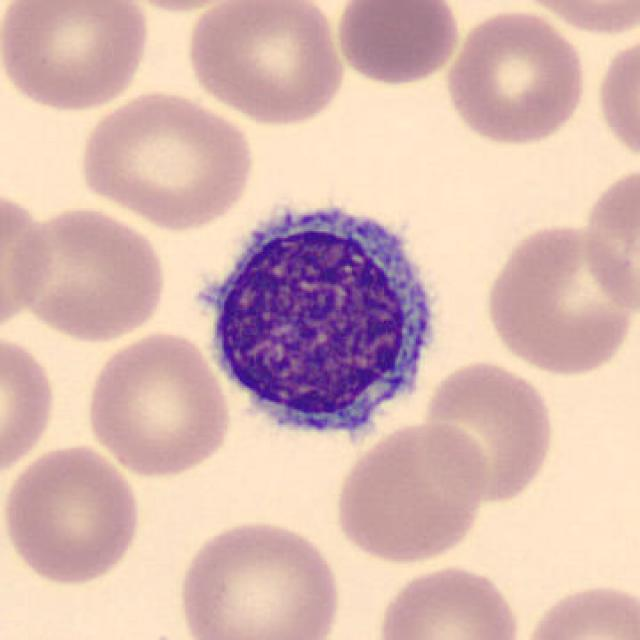Lymphocyte: (190, 185, 450, 453)
RBC: (73, 86, 259, 233), (480, 219, 636, 377), (330, 418, 492, 566), (9, 201, 169, 346), (82, 328, 235, 479), (174, 515, 347, 640), (441, 5, 592, 148), (183, 0, 349, 129), (0, 441, 144, 589), (420, 356, 558, 506), (0, 0, 153, 115), (371, 560, 526, 640), (331, 0, 464, 88), (578, 160, 640, 321), (0, 327, 60, 481), (0, 184, 57, 338), (517, 576, 638, 640), (592, 28, 638, 168), (510, 0, 638, 37), (107, 0, 256, 14)
